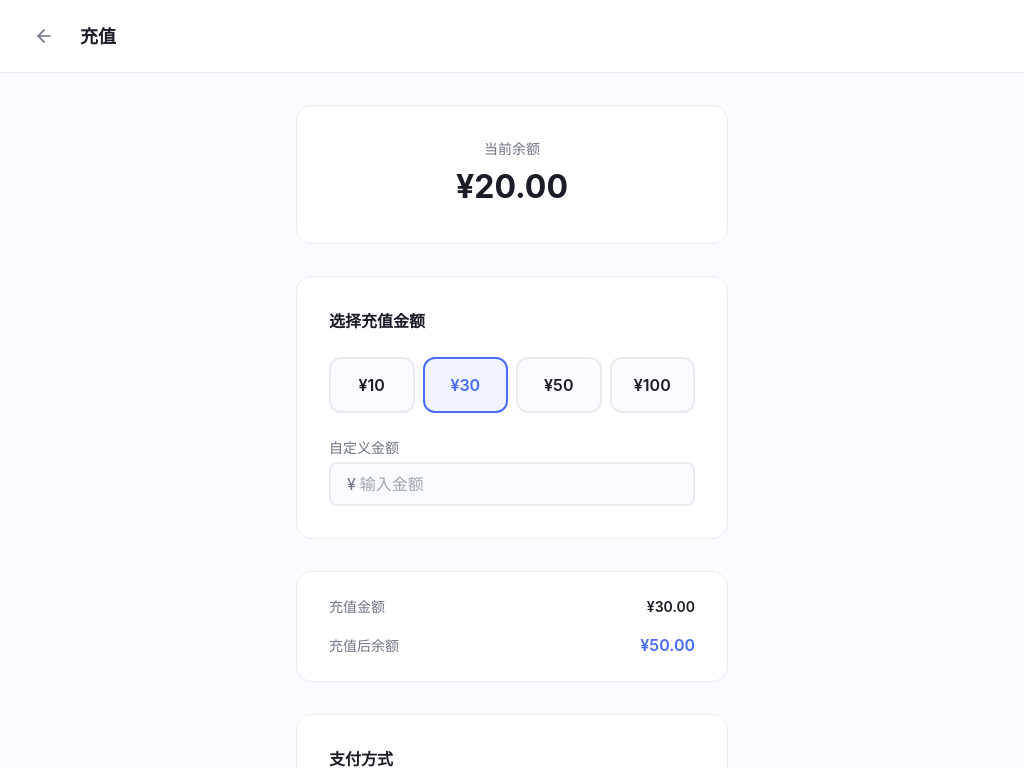
Test: RechargePage › updates summary when preset is selected
Click the button with class "amount-option" showing "¥100" at (652, 385), box [610,357,695,413]
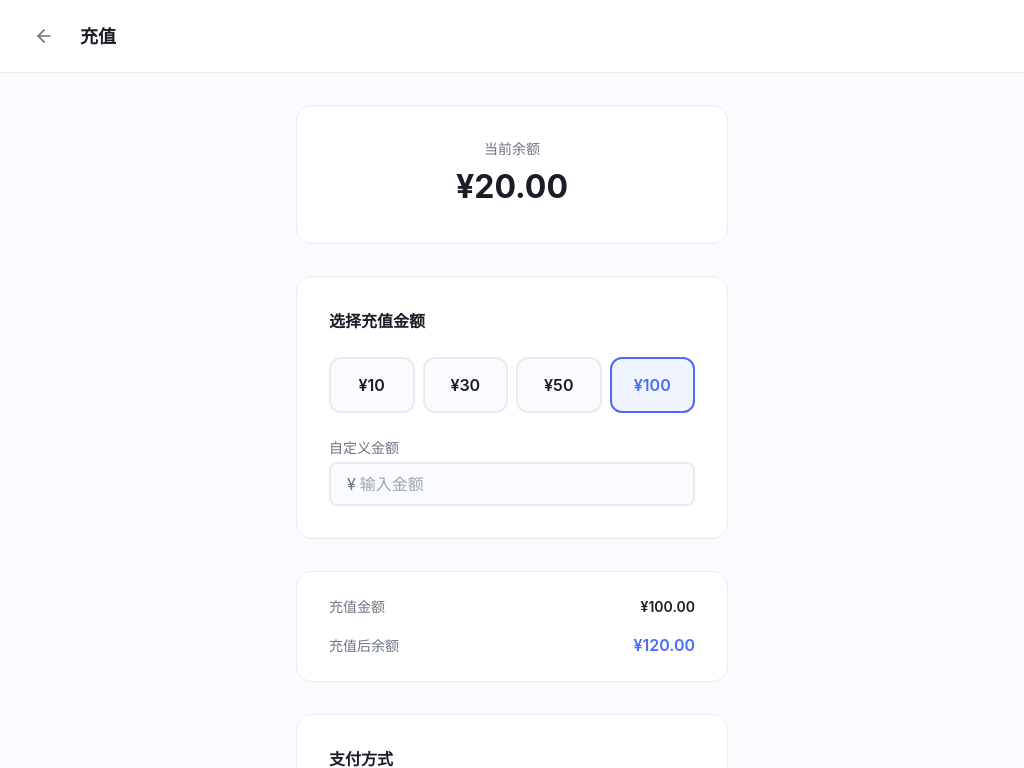
Expected: the text with class "recharge-summary__value" reads "¥100.00", [641,598,695,615]
Expected: the text with class "recharge-summary__value" reads "¥120.00", [633,635,695,655]
